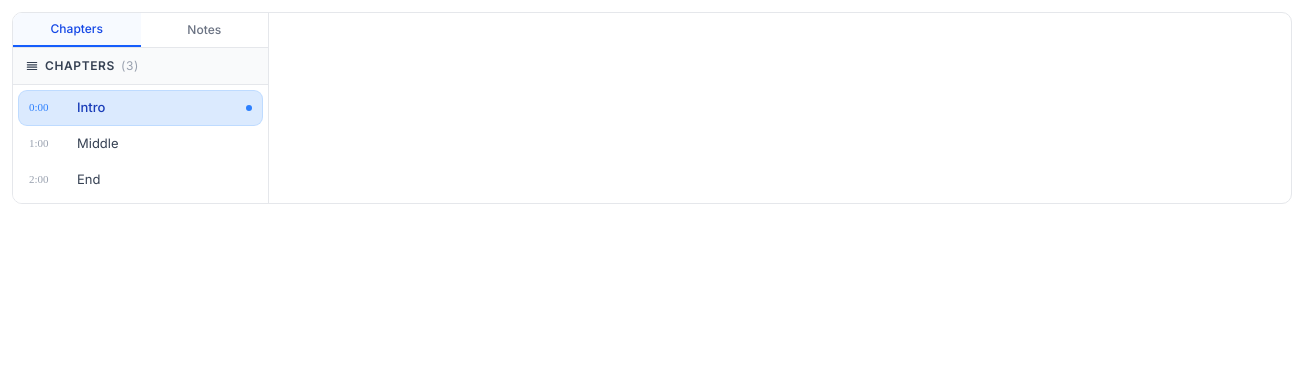
VideoSidebar — tabs (both chapters and notes) › switches back to chapters when Chapters tab is re-clicked
Click the button "Notes" at (204,30), box [140, 13, 268, 47]
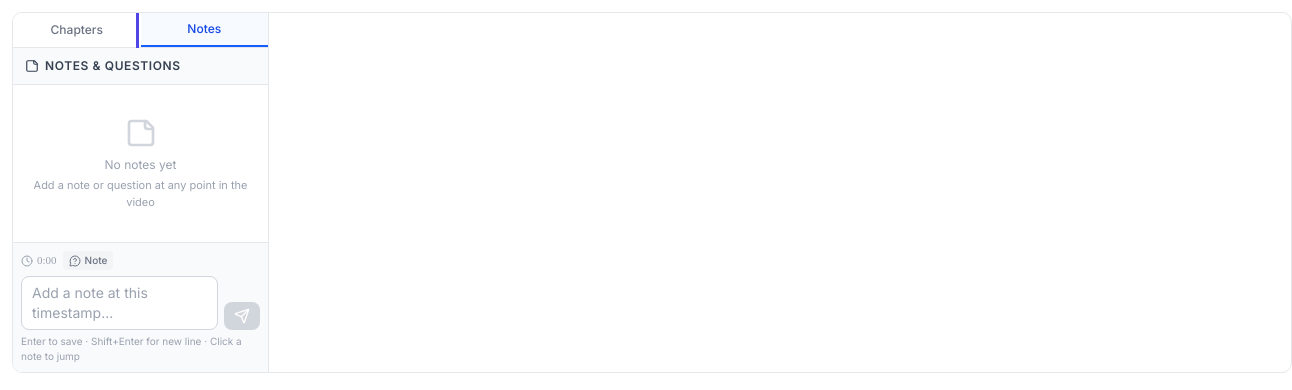
Click the button "Chapters" at (77,30), box [13, 13, 140, 47]
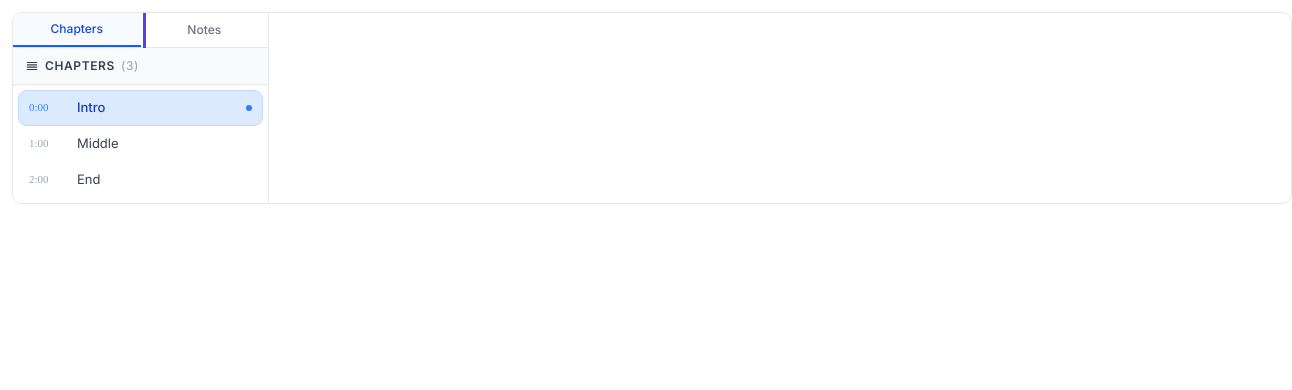
expect the text "Intro" is shown: met, box [77, 99, 105, 115]
